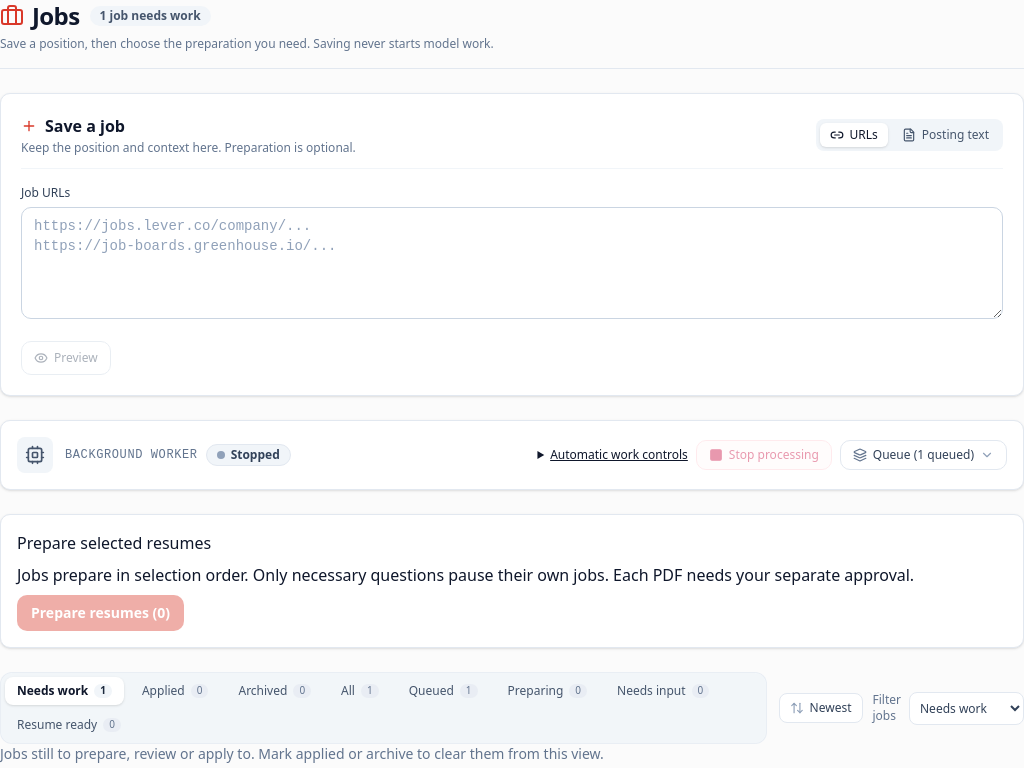
it: keeps application and preparation filters independent and retains archived records
Select "Archived" in the dropdown labelled "Filter jobs" at coordinates (966, 708), box [909,692,1023,724]
(page scrolled)
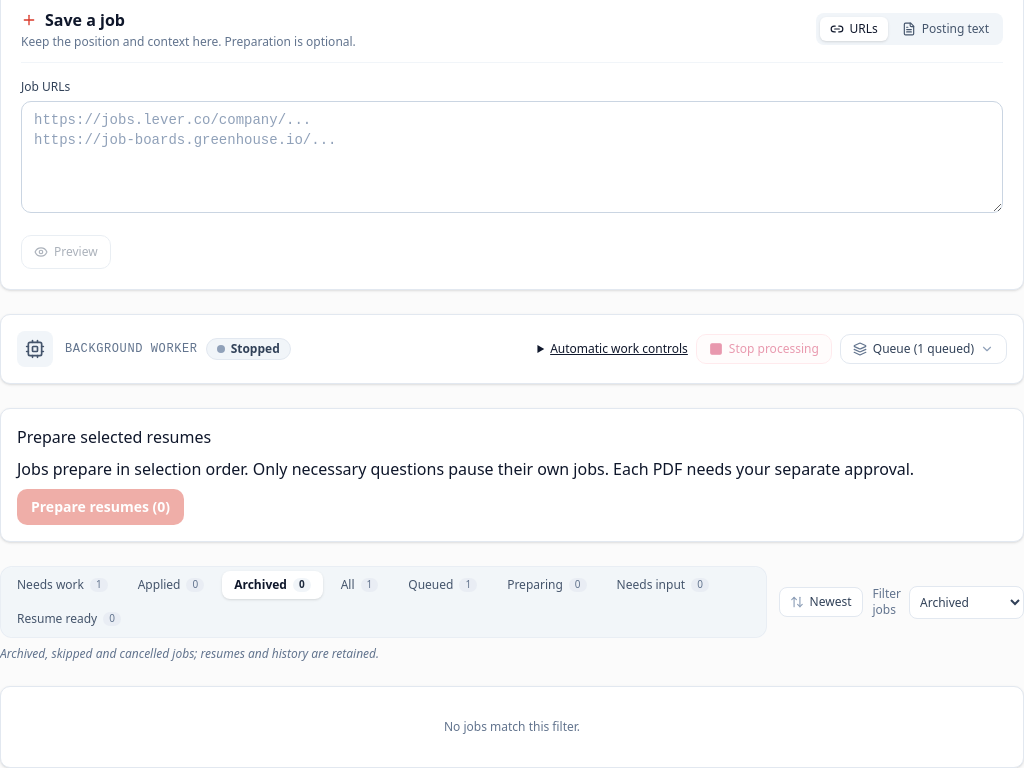
expect the text "Archived, skipped and cancelled jobs; resumes and history are retained." is shown: met, box [0,645,379,662]
expect the text "No jobs match this filter." is shown: met, box [0,686,1023,767]
